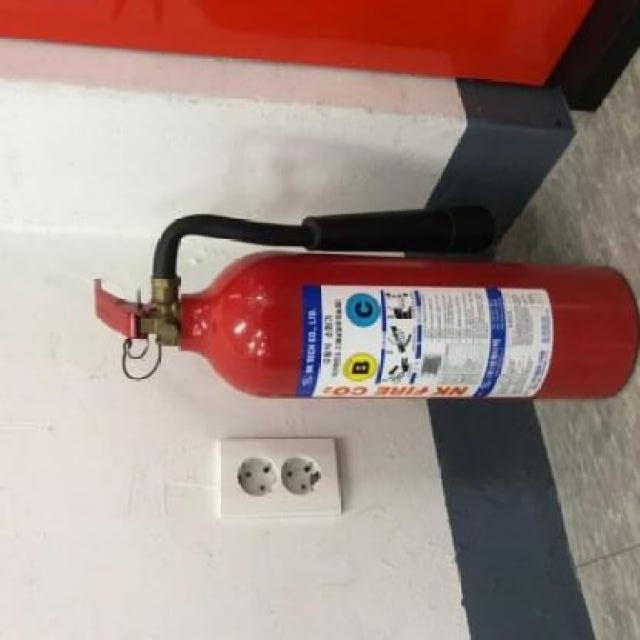fire extinguisher: (94, 208, 640, 401)
